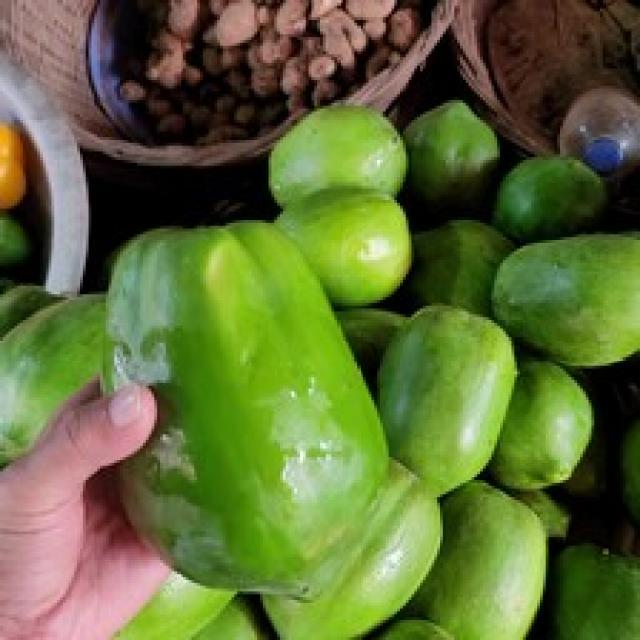Pepaya unrippen: (105, 211, 394, 616)
